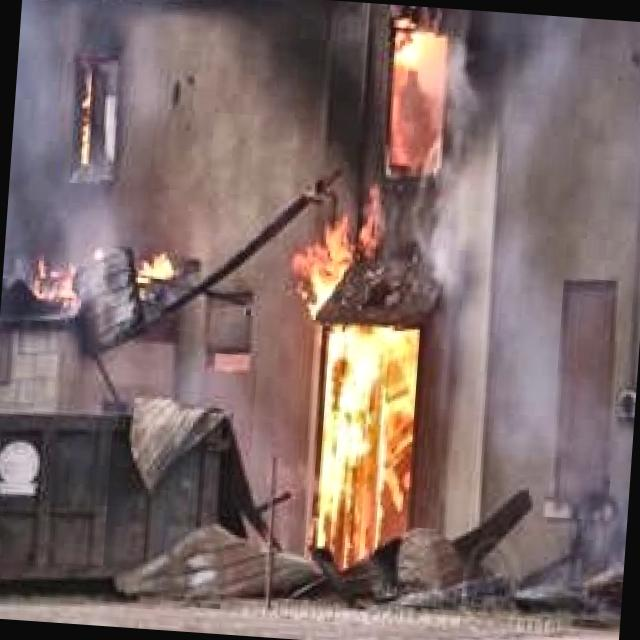fire: (304, 320, 422, 549), (298, 163, 424, 310), (382, 28, 458, 167)
